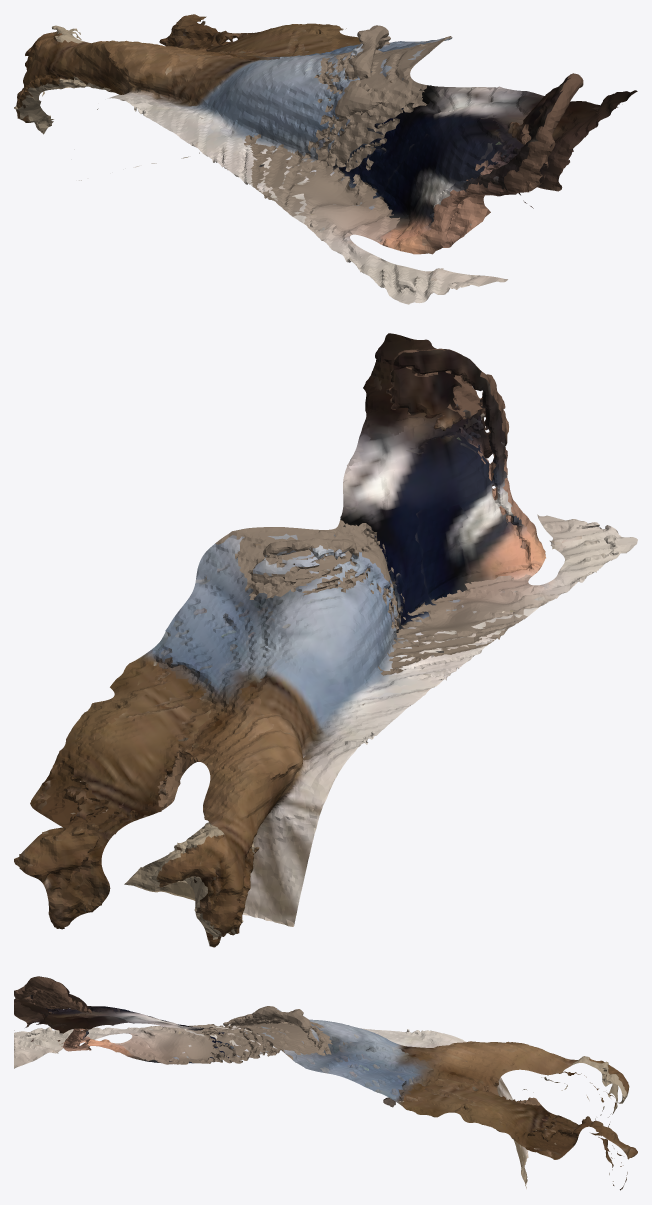
The picture shows the model from 3 angles, top to bottom: view 1: azimuth 30°, elevation 25°; view 2: azimuth 150°, elevation 25°; view 3: azimuth 270°, elevation 25°; orthographic projection. The views are drawn at different scales.
Bounding box in the file's own units: 0.5291 × 0.6075 × 1.58.
1 material, 1 textured.
